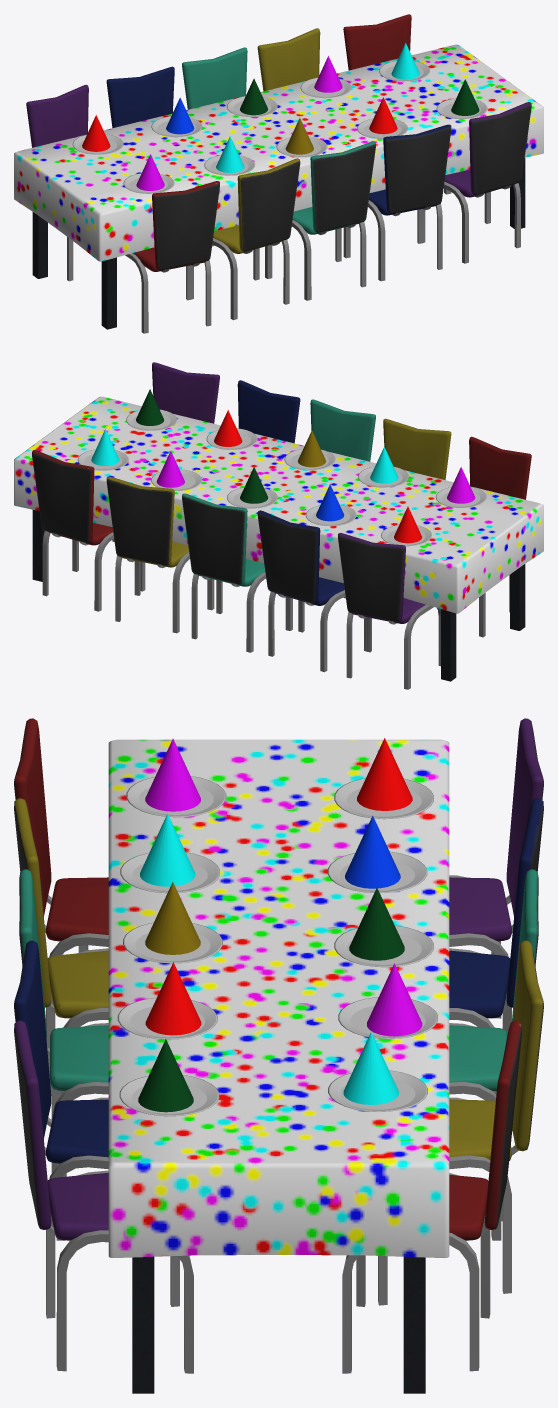
The model's file is partytable1.fbx.
The picture shows the model from 3 angles, top to bottom: view 1: azimuth 30°, elevation 25°; view 2: azimuth 150°, elevation 25°; view 3: azimuth 270°, elevation 25°; orthographic projection. The views are drawn at different scales.
Visible parts, largest first — view 1: party table 1; view 2: party table 1; view 3: party table 1.
Boxes of the visible parts, left/top/right/bottom form: party table 1: left=14, top=14, right=543, bottom=333; party table 1: left=14, top=362, right=543, bottom=689; party table 1: left=14, top=718, right=543, bottom=1393.
Size of the model in its own units: 28.87 by 15.12 by 9.61.
